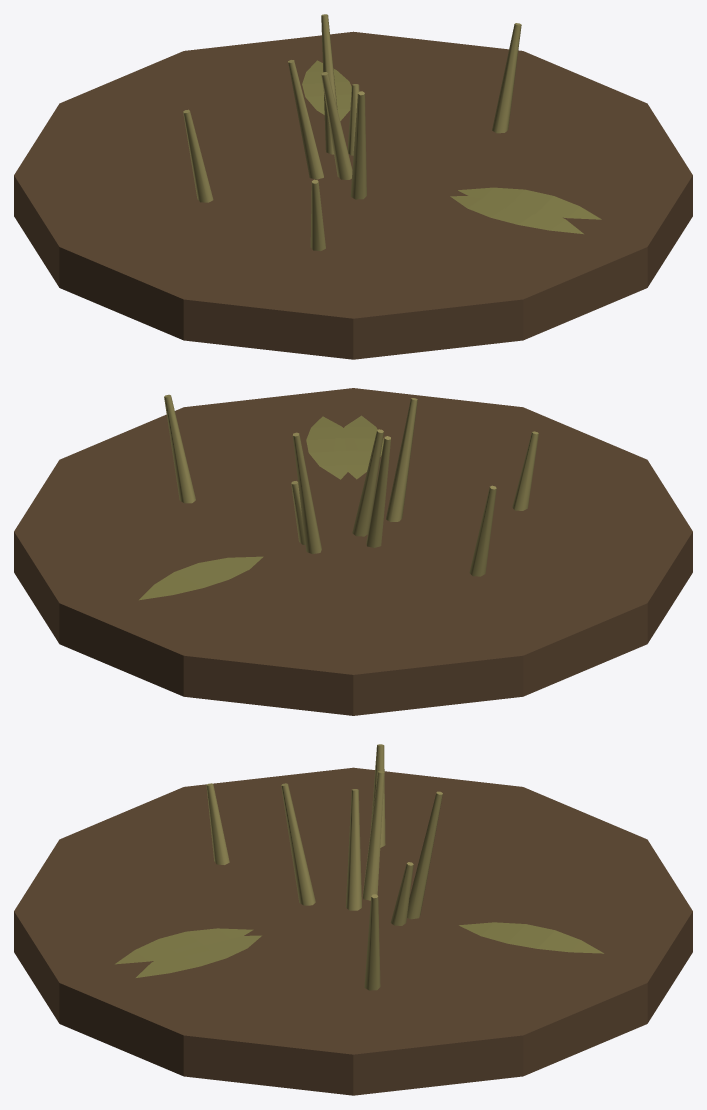
Rendered from ringelblume-geerntet.glb.
3 renders of one model, top to bottom at view 1: azimuth 30°, elevation 25°; view 2: azimuth 150°, elevation 25°; view 3: azimuth 270°, elevation 25°, orthographic.
Visible parts, largest first — view 1: ringelblume; view 2: ringelblume; view 3: ringelblume.
Part boxes in pixels (x1,y1,x2,y2): ringelblume: [14, 14, 692, 359]; ringelblume: [14, 388, 692, 715]; ringelblume: [14, 744, 692, 1095].
Bounding box in the file's own units: 0.3 × 0.0812 × 0.3.
